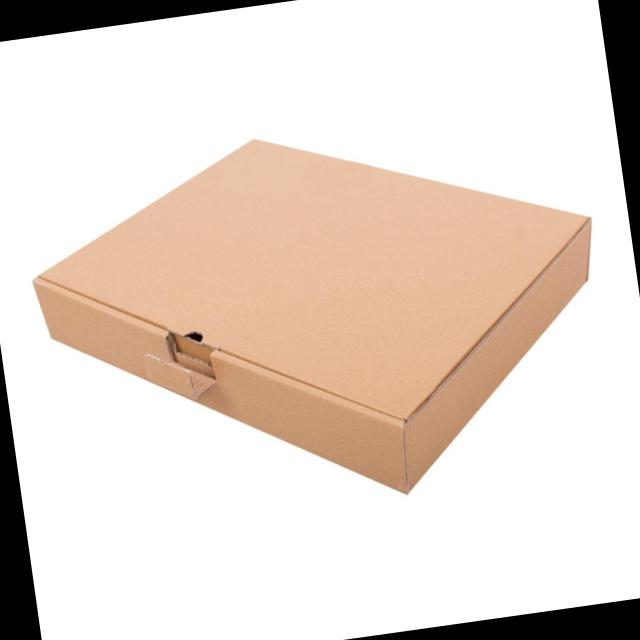box: (33, 140, 592, 497)
